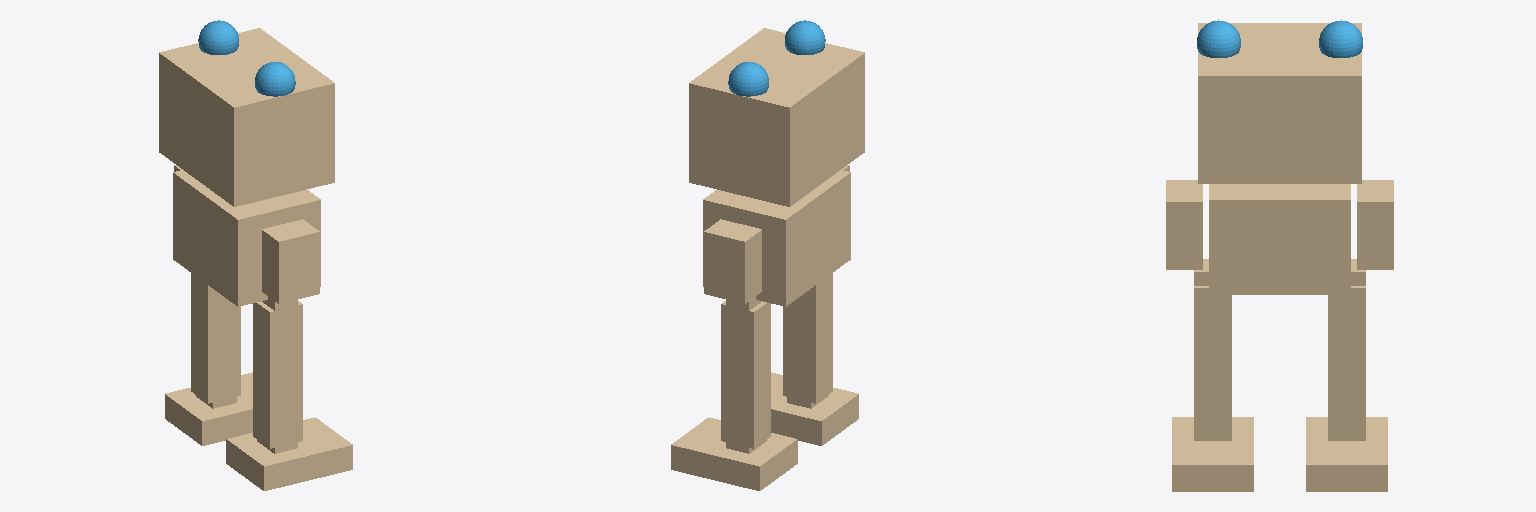
The robot description file, URDF, robot "snu-gom-biped-v0.1-proxy":
<?xml version='1.0' encoding='utf-8'?>
<robot name="snu-gom-biped-v0.1-proxy">
  <!--GEOMETRY PROXY ONLY. Coincident axes, masses, inertia and limits are assumptions. Not manufacturing CAD or a validated walking robot.-->
  <link name="base_link">
    <inertial>
      <origin xyz="0 0 0.04" />
      <mass value="0.208" />
      <inertia ixx="0.00024136666666666666" iyy="0.00016986666666666668" izz="0.00024136666666666666" ixy="0" ixz="0" iyz="0" />
    </inertial>
    <visual>
      <origin xyz="0 0 0.04" />
      <geometry>
        <box size="0.07 0.095 0.07" />
      </geometry>
      <material name="base_link_color">
        <color rgba="0.91 0.82 0.68 1" />
      </material>
    </visual>
    <collision>
      <origin xyz="0 0 0.04" />
      <geometry>
        <box size="0.07 0.095 0.07" />
      </geometry>
    </collision>
  </link>
  <link name="head">
    <inertial>
      <origin xyz="0 0 0" />
      <mass value="0.06" />
      <inertia ixx="9.249999999999999e-05" iyy="6.8125e-05" izz="9.662500000000002e-05" ixy="0" ixz="0" iyz="0" />
    </inertial>
    <visual>
      <origin xyz="0 0 0" />
      <geometry>
        <box size="0.085 0.11 0.08" />
      </geometry>
      <material name="head_color">
        <color rgba="0.91 0.82 0.68 1" />
      </material>
    </visual>
    <collision>
      <origin xyz="0 0 0" />
      <geometry>
        <box size="0.085 0.11 0.08" />
      </geometry>
    </collision>
    <visual>
      <origin xyz="0 -0.041 0.045" />
      <geometry>
        <sphere radius=".015" />
      </geometry>
    </visual>
    <visual>
      <origin xyz="0 0.041 0.045" />
      <geometry>
        <sphere radius=".015" />
      </geometry>
    </visual>
  </link>
  <joint name="head_fixed" type="fixed">
    <parent link="base_link" />
    <child link="head" />
    <origin xyz="0 0 0.13" rpy="0 0 0" />
  </joint>
  <link name="left_arm">
    <inertial>
      <origin xyz="0 0 0" />
      <mass value="0.01" />
      <inertia ixx="2.6041666666666674e-06" iyy="3.1041666666666677e-06" izz="1.5416666666666668e-06" ixy="0" ixz="0" iyz="0" />
    </inertial>
    <visual>
      <origin xyz="0 0 0" />
      <geometry>
        <box size="0.035 0.025 0.05" />
      </geometry>
      <material name="left_arm_color">
        <color rgba="0.91 0.82 0.68 1" />
      </material>
    </visual>
    <collision>
      <origin xyz="0 0 0" />
      <geometry>
        <box size="0.035 0.025 0.05" />
      </geometry>
    </collision>
  </link>
  <joint name="left_arm_fixed" type="fixed">
    <parent link="base_link" />
    <child link="left_arm" />
    <origin xyz="0 0.064 0.04" rpy="0 0 0" />
  </joint>
  <link name="left_hip_carrier">
    <inertial>
      <origin xyz="0 0 0" />
      <mass value="0.018" />
      <inertia ixx="1.5375e-06" iyy="1.2e-06" izz="1.5375e-06" ixy="0" ixz="0" iyz="0" />
    </inertial>
    <visual>
      <origin xyz="0 0 0" />
      <geometry>
        <box size="0.02 0.025 0.02" />
      </geometry>
      <material name="left_hip_carrier_color">
        <color rgba="0.91 0.82 0.68 1" />
      </material>
    </visual>
    <collision>
      <origin xyz="0 0 0" />
      <geometry>
        <box size="0.02 0.025 0.02" />
      </geometry>
    </collision>
  </link>
  <joint name="left_hip_roll" type="revolute">
    <parent link="base_link" />
    <child link="left_hip_carrier" />
    <origin xyz="0 0.045 0" rpy="0 0 0" />
    <axis xyz="1 0 0" />
    <limit lower="-0.35" upper="0.35" effort="0.2" velocity="1.0" />
    <dynamics damping="0.02" friction="0.01" />
  </joint>
  <link name="left_thigh">
    <inertial>
      <origin xyz="0 0 -0.0275" />
      <mass value="0.04" />
      <inertia ixx="1.2166666666666667e-05" iyy="1.2696666666666668e-05" izz="4.696666666666667e-06" ixy="0" ixz="0" iyz="0" />
    </inertial>
    <visual>
      <origin xyz="0 0 -0.0275" />
      <geometry>
        <box size="0.028 0.025 0.055" />
      </geometry>
      <material name="left_thigh_color">
        <color rgba="0.91 0.82 0.68 1" />
      </material>
    </visual>
    <collision>
      <origin xyz="0 0 -0.0275" />
      <geometry>
        <box size="0.028 0.025 0.055" />
      </geometry>
    </collision>
  </link>
  <joint name="left_hip_pitch" type="revolute">
    <parent link="left_hip_carrier" />
    <child link="left_thigh" />
    <origin xyz="0 0 0" rpy="0 0 0" />
    <axis xyz="0 1 0" />
    <limit lower="-0.8" upper="0.6" effort="0.2" velocity="1.0" />
    <dynamics damping="0.02" friction="0.01" />
  </joint>
  <link name="left_shin">
    <inertial>
      <origin xyz="0 0 -0.0275" />
      <mass value="0.04" />
      <inertia ixx="1.2166666666666667e-05" iyy="1.2696666666666668e-05" izz="4.696666666666667e-06" ixy="0" ixz="0" iyz="0" />
    </inertial>
    <visual>
      <origin xyz="0 0 -0.0275" />
      <geometry>
        <box size="0.028 0.025 0.055" />
      </geometry>
      <material name="left_shin_color">
        <color rgba="0.91 0.82 0.68 1" />
      </material>
    </visual>
    <collision>
      <origin xyz="0 0 -0.0275" />
      <geometry>
        <box size="0.028 0.025 0.055" />
      </geometry>
    </collision>
  </link>
  <joint name="left_knee_pitch" type="revolute">
    <parent link="left_thigh" />
    <child link="left_shin" />
    <origin xyz="0 0 -0.055" rpy="0 0 0" />
    <axis xyz="0 1 0" />
    <limit lower="0" upper="1.4" effort="0.2" velocity="1.0" />
    <dynamics damping="0.02" friction="0.01" />
  </joint>
  <link name="left_ankle_carrier">
    <inertial>
      <origin xyz="0 0 0" />
      <mass value="0.018" />
      <inertia ixx="1.5375e-06" iyy="1.2e-06" izz="1.5375e-06" ixy="0" ixz="0" iyz="0" />
    </inertial>
    <visual>
      <origin xyz="0 0 0" />
      <geometry>
        <box size="0.02 0.025 0.02" />
      </geometry>
      <material name="left_ankle_carrier_color">
        <color rgba="0.91 0.82 0.68 1" />
      </material>
    </visual>
    <collision>
      <origin xyz="0 0 0" />
      <geometry>
        <box size="0.02 0.025 0.02" />
      </geometry>
    </collision>
  </link>
  <joint name="left_ankle_pitch" type="revolute">
    <parent link="left_shin" />
    <child link="left_ankle_carrier" />
    <origin xyz="0 0 -0.055" rpy="0 0 0" />
    <axis xyz="0 1 0" />
    <limit lower="-0.7" upper="0.7" effort="0.2" velocity="1.0" />
    <dynamics damping="0.02" friction="0.01" />
  </joint>
  <link name="left_foot">
    <inertial>
      <origin xyz="0.01 0 -0.015" />
      <mass value="0.04" />
      <inertia ixx="1.1416666666666667e-05" iyy="2.0083333333333335e-05" izz="2.8833333333333334e-05" ixy="0" ixz="0" iyz="0" />
    </inertial>
    <visual>
      <origin xyz="0.01 0 -0.015" />
      <geometry>
        <box size="0.075 0.055 0.02" />
      </geometry>
      <material name="left_foot_color">
        <color rgba="0.91 0.82 0.68 1" />
      </material>
    </visual>
    <collision>
      <origin xyz="0.01 0 -0.015" />
      <geometry>
        <box size="0.075 0.055 0.02" />
      </geometry>
    </collision>
  </link>
  <joint name="left_ankle_roll" type="revolute">
    <parent link="left_ankle_carrier" />
    <child link="left_foot" />
    <origin xyz="0 0 0" rpy="0 0 0" />
    <axis xyz="1 0 0" />
    <limit lower="-0.35" upper="0.35" effort="0.2" velocity="1.0" />
    <dynamics damping="0.02" friction="0.01" />
  </joint>
  <link name="right_arm">
    <inertial>
      <origin xyz="0 0 0" />
      <mass value="0.01" />
      <inertia ixx="2.6041666666666674e-06" iyy="3.1041666666666677e-06" izz="1.5416666666666668e-06" ixy="0" ixz="0" iyz="0" />
    </inertial>
    <visual>
      <origin xyz="0 0 0" />
      <geometry>
        <box size="0.035 0.025 0.05" />
      </geometry>
      <material name="right_arm_color">
        <color rgba="0.91 0.82 0.68 1" />
      </material>
    </visual>
    <collision>
      <origin xyz="0 0 0" />
      <geometry>
        <box size="0.035 0.025 0.05" />
      </geometry>
    </collision>
  </link>
  <joint name="right_arm_fixed" type="fixed">
    <parent link="base_link" />
    <child link="right_arm" />
    <origin xyz="0 -0.064 0.04" rpy="0 0 0" />
  </joint>
  <link name="right_hip_carrier">
    <inertial>
      <origin xyz="0 0 0" />
      <mass value="0.018" />
      <inertia ixx="1.5375e-06" iyy="1.2e-06" izz="1.5375e-06" ixy="0" ixz="0" iyz="0" />
    </inertial>
    <visual>
      <origin xyz="0 0 0" />
      <geometry>
        <box size="0.02 0.025 0.02" />
      </geometry>
      <material name="right_hip_carrier_color">
        <color rgba="0.91 0.82 0.68 1" />
      </material>
    </visual>
    <collision>
      <origin xyz="0 0 0" />
      <geometry>
        <box size="0.02 0.025 0.02" />
      </geometry>
    </collision>
  </link>
  <joint name="right_hip_roll" type="revolute">
    <parent link="base_link" />
    <child link="right_hip_carrier" />
    <origin xyz="0 -0.045 0" rpy="0 0 0" />
    <axis xyz="1 0 0" />
    <limit lower="-0.35" upper="0.35" effort="0.2" velocity="1.0" />
    <dynamics damping="0.02" friction="0.01" />
  </joint>
  <link name="right_thigh">
    <inertial>
      <origin xyz="0 0 -0.0275" />
      <mass value="0.04" />
      <inertia ixx="1.2166666666666667e-05" iyy="1.2696666666666668e-05" izz="4.696666666666667e-06" ixy="0" ixz="0" iyz="0" />
    </inertial>
    <visual>
      <origin xyz="0 0 -0.0275" />
      <geometry>
        <box size="0.028 0.025 0.055" />
      </geometry>
      <material name="right_thigh_color">
        <color rgba="0.91 0.82 0.68 1" />
      </material>
    </visual>
    <collision>
      <origin xyz="0 0 -0.0275" />
      <geometry>
        <box size="0.028 0.025 0.055" />
      </geometry>
    </collision>
  </link>
  <joint name="right_hip_pitch" type="revolute">
    <parent link="right_hip_carrier" />
    <child link="right_thigh" />
    <origin xyz="0 0 0" rpy="0 0 0" />
    <axis xyz="0 1 0" />
    <limit lower="-0.8" upper="0.6" effort="0.2" velocity="1.0" />
    <dynamics damping="0.02" friction="0.01" />
  </joint>
  <link name="right_shin">
    <inertial>
      <origin xyz="0 0 -0.0275" />
      <mass value="0.04" />
      <inertia ixx="1.2166666666666667e-05" iyy="1.2696666666666668e-05" izz="4.696666666666667e-06" ixy="0" ixz="0" iyz="0" />
    </inertial>
    <visual>
      <origin xyz="0 0 -0.0275" />
      <geometry>
        <box size="0.028 0.025 0.055" />
      </geometry>
      <material name="right_shin_color">
        <color rgba="0.91 0.82 0.68 1" />
      </material>
    </visual>
    <collision>
      <origin xyz="0 0 -0.0275" />
      <geometry>
        <box size="0.028 0.025 0.055" />
      </geometry>
    </collision>
  </link>
  <joint name="right_knee_pitch" type="revolute">
    <parent link="right_thigh" />
    <child link="right_shin" />
    <origin xyz="0 0 -0.055" rpy="0 0 0" />
    <axis xyz="0 1 0" />
    <limit lower="0" upper="1.4" effort="0.2" velocity="1.0" />
    <dynamics damping="0.02" friction="0.01" />
  </joint>
  <link name="right_ankle_carrier">
    <inertial>
      <origin xyz="0 0 0" />
      <mass value="0.018" />
      <inertia ixx="1.5375e-06" iyy="1.2e-06" izz="1.5375e-06" ixy="0" ixz="0" iyz="0" />
    </inertial>
    <visual>
      <origin xyz="0 0 0" />
      <geometry>
        <box size="0.02 0.025 0.02" />
      </geometry>
      <material name="right_ankle_carrier_color">
        <color rgba="0.91 0.82 0.68 1" />
      </material>
    </visual>
    <collision>
      <origin xyz="0 0 0" />
      <geometry>
        <box size="0.02 0.025 0.02" />
      </geometry>
    </collision>
  </link>
  <joint name="right_ankle_pitch" type="revolute">
    <parent link="right_shin" />
    <child link="right_ankle_carrier" />
    <origin xyz="0 0 -0.055" rpy="0 0 0" />
    <axis xyz="0 1 0" />
    <limit lower="-0.7" upper="0.7" effort="0.2" velocity="1.0" />
    <dynamics damping="0.02" friction="0.01" />
  </joint>
  <link name="right_foot">
    <inertial>
      <origin xyz="0.01 0 -0.015" />
      <mass value="0.04" />
      <inertia ixx="1.1416666666666667e-05" iyy="2.0083333333333335e-05" izz="2.8833333333333334e-05" ixy="0" ixz="0" iyz="0" />
    </inertial>
    <visual>
      <origin xyz="0.01 0 -0.015" />
      <geometry>
        <box size="0.075 0.055 0.02" />
      </geometry>
      <material name="right_foot_color">
        <color rgba="0.91 0.82 0.68 1" />
      </material>
    </visual>
    <collision>
      <origin xyz="0.01 0 -0.015" />
      <geometry>
        <box size="0.075 0.055 0.02" />
      </geometry>
    </collision>
  </link>
  <joint name="right_ankle_roll" type="revolute">
    <parent link="right_ankle_carrier" />
    <child link="right_foot" />
    <origin xyz="0 0 0" rpy="0 0 0" />
    <axis xyz="1 0 0" />
    <limit lower="-0.35" upper="0.35" effort="0.2" velocity="1.0" />
    <dynamics damping="0.02" friction="0.01" />
  </joint>
</robot>

--- What the picture shows (computed from the rendered views, not written in the file) ---
The picture shows the robot from 3 angles, left to right: view 1: azimuth 30°, elevation 25°; view 2: azimuth 150°, elevation 25°; view 3: azimuth 270°, elevation 25°; orthographic projection.
Model snu-gom-biped-v0.1-proxy with 14 links and 13 joints (10 revolute, 3 fixed), rooted at base_link, posed every joint at zero.
Visible links, largest first — view 1: head, base_link, right_foot, right_arm, left_foot, right_shin, right_thigh, left_shin, left_thigh; view 2: head, base_link, left_foot, left_arm, right_foot, left_thigh, left_shin, right_shin, right_thigh; view 3: head, base_link, left_foot, right_foot, left_arm, right_arm, left_shin, right_shin, left_thigh, right_thigh.
Link boxes in pixels (x1,y1,x2,y2): head: (159,20,334,206); base_link: (173,170,320,306); right_foot: (226,417,352,490); right_arm: (262,219,319,303); left_foot: (165,372,252,445); right_shin: (253,369,302,448); right_thigh: (253,301,302,379); left_shin: (191,323,240,403); left_thigh: (191,273,240,334); head: (689,20,864,206); base_link: (703,170,850,306); left_foot: (671,417,797,490); left_arm: (704,219,761,303); right_foot: (771,372,858,445); left_thigh: (721,301,770,379); left_shin: (721,369,770,448); right_shin: (783,323,832,403); right_thigh: (783,273,832,334); head: (1197,20,1362,183); base_link: (1209,184,1350,294); left_foot: (1306,417,1387,491); right_foot: (1172,417,1253,491); left_arm: (1357,180,1393,269); right_arm: (1166,180,1202,269); left_shin: (1328,362,1365,436); right_shin: (1194,362,1231,436); left_thigh: (1328,286,1365,361); right_thigh: (1194,286,1231,361).
Size in the robot's own frame: 0.09 by 0.153 by 0.325 metres.
Geometry: primitives only (box / cylinder / sphere), no mesh files.
